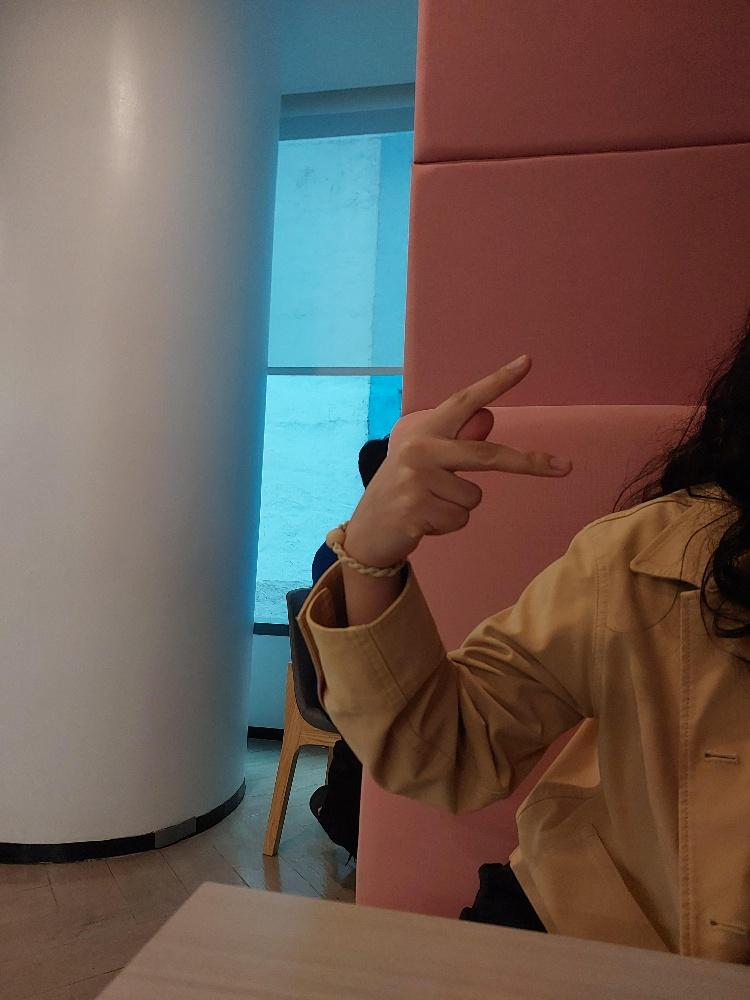k: (325, 340, 581, 579)
